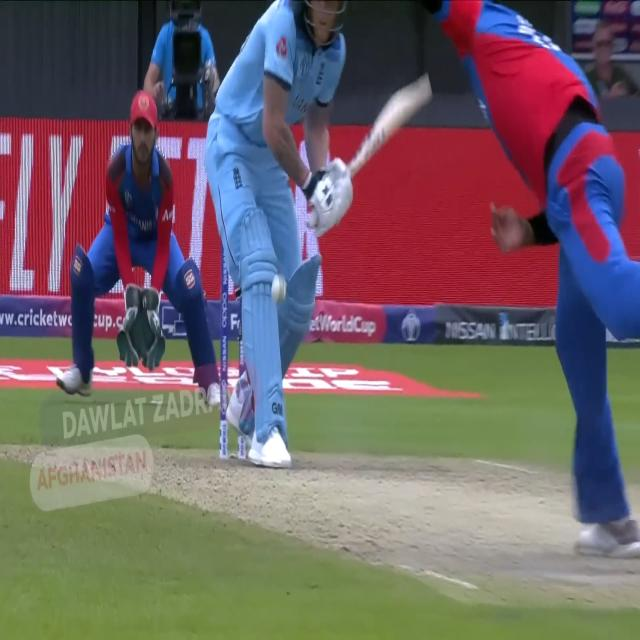ball: (269, 273, 288, 306)
